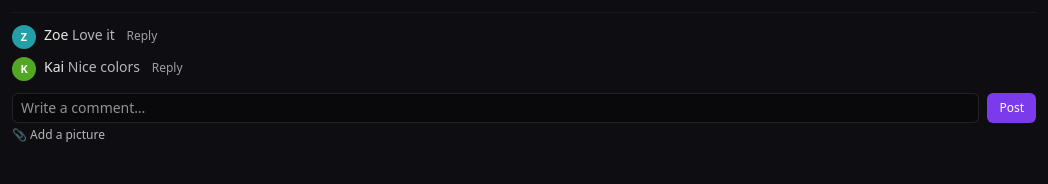
Test: PostCommentList › shows the server's message if posting fails, keeping the draft
This screenshot has width=1048, height=184.
Expected: the text "Love it" is shown, 72,25 -> 115,44
Type "Hello" into the field with placeholder "Write a comment…" at (496, 108), box 12,93 -> 979,123
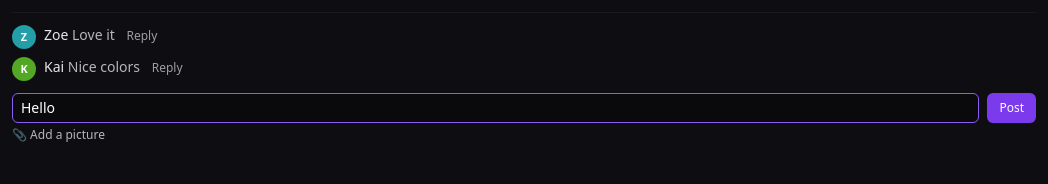
Click the button "Post" at (1012, 108), box 987,93 -> 1036,123
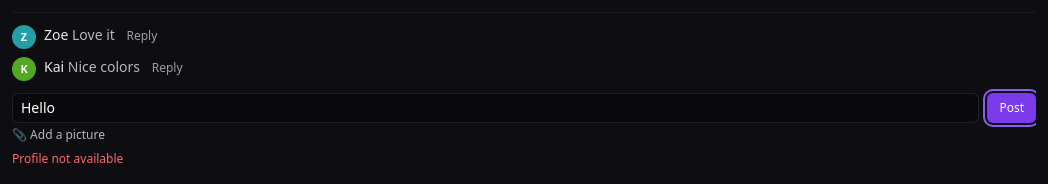
Expected: the text "Profile not available" is shown, 12,150 -> 123,167
